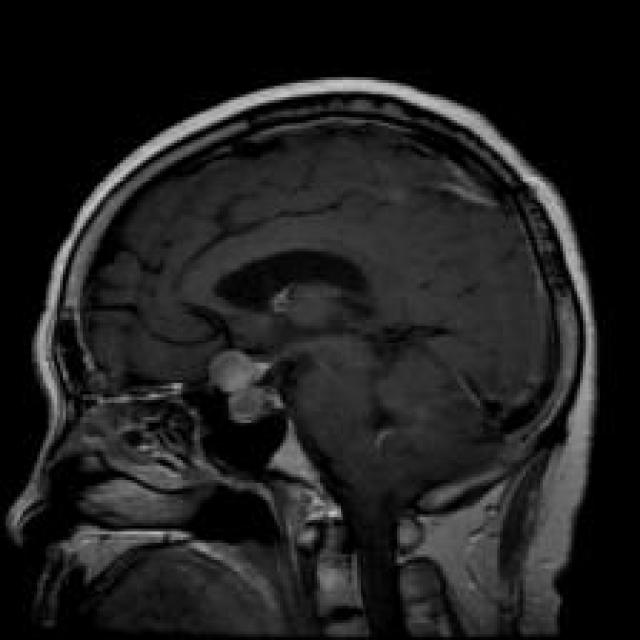pituitary_tumor: (193, 330, 295, 435)
